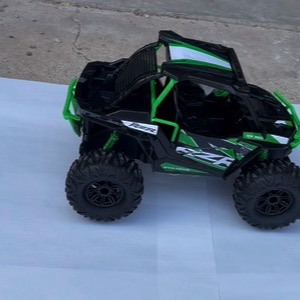polaris: (62, 28, 299, 236)
